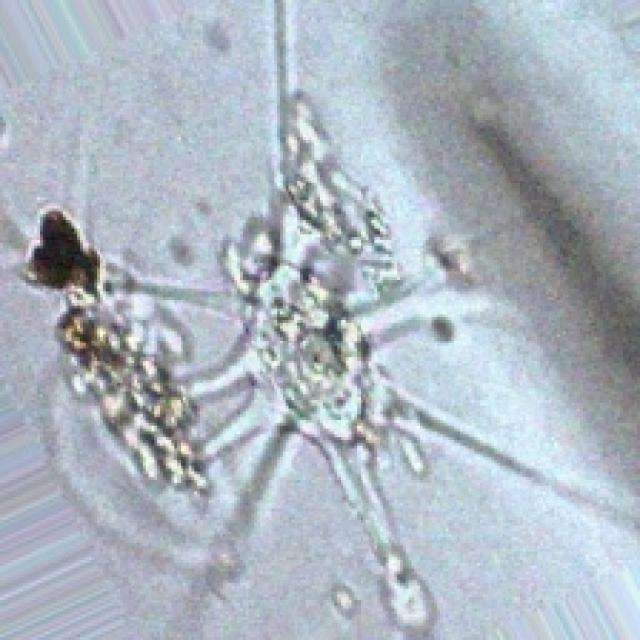Amoeba: (19, 53, 589, 640)
